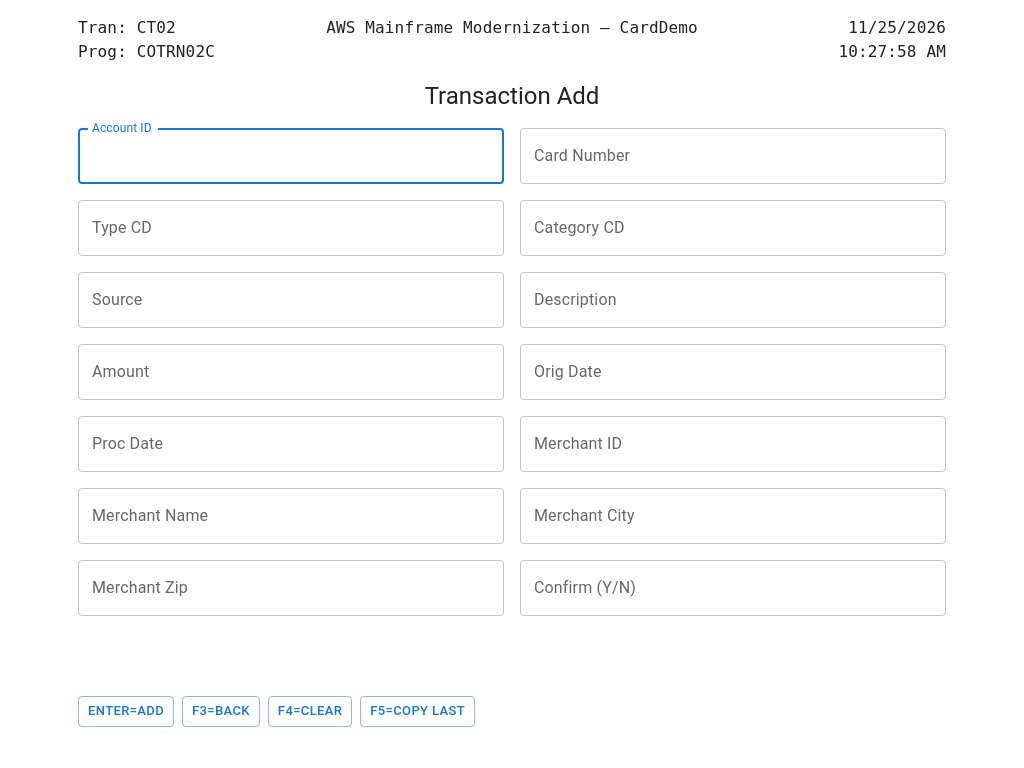
Test: MAIN-PARA POPULATE-HEADER-INFO RECEIVE/SEND-TRNADD-SCREEN validation and confirmation
Expected: the text "Prog: COTRN02C" is shown, [78,40,215,64]
Type "00000000001" into the field labelled "Account ID" at x=291, y=156, box [78,128,504,184]
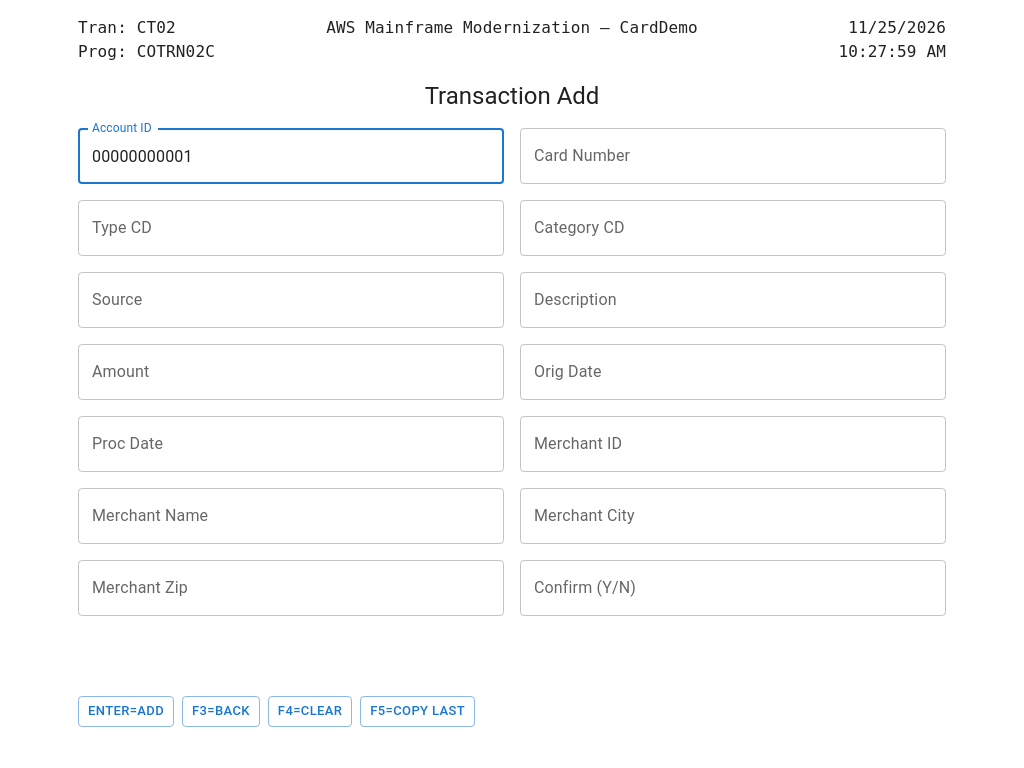
Press Enter
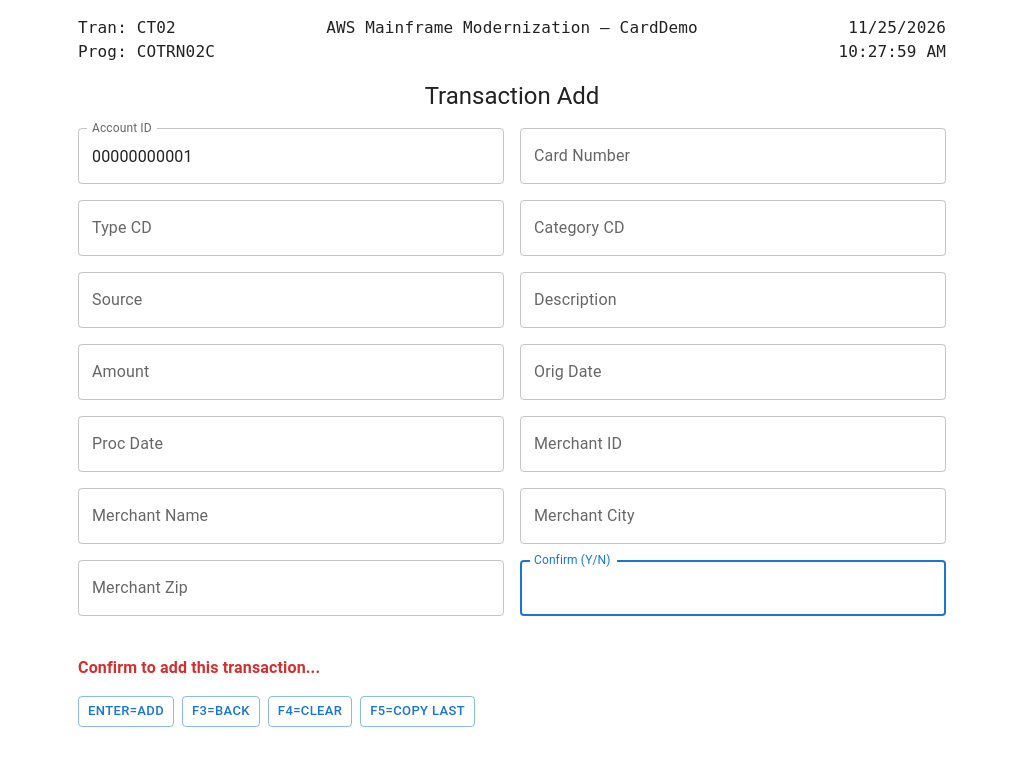
Expected: the message reads "Confirm to add this transaction...", [78,658,320,677]
